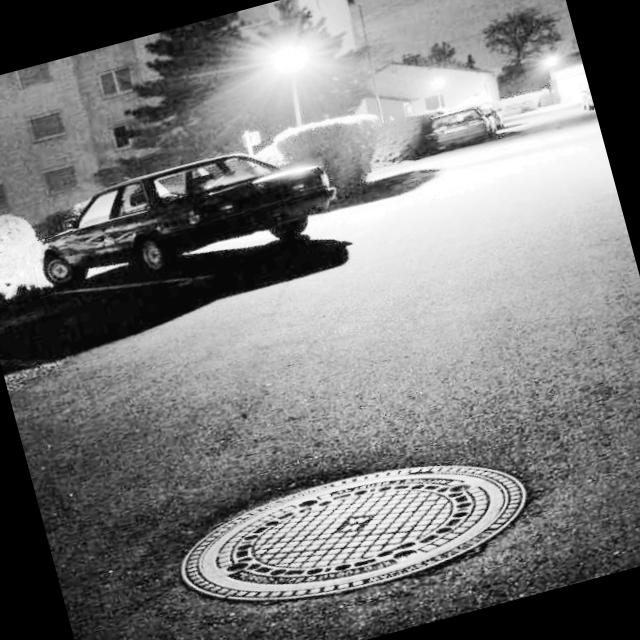Car: (0, 112, 345, 310), (412, 88, 507, 164), (559, 74, 598, 127)
